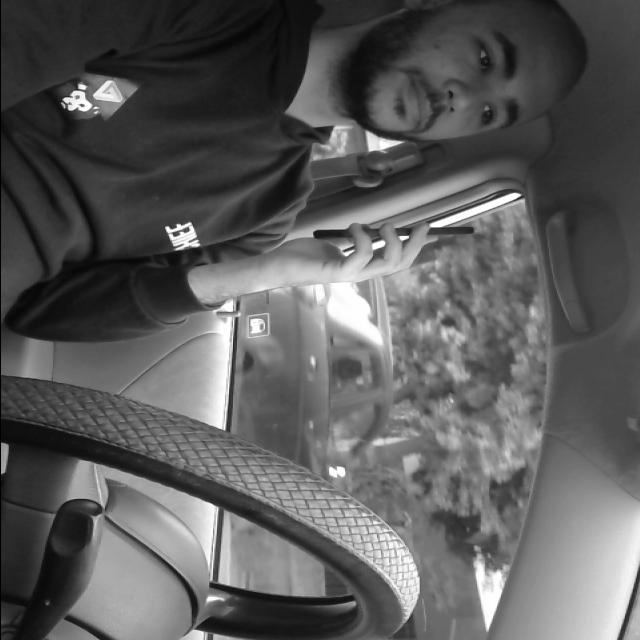mobile use: (312, 218, 478, 249)
